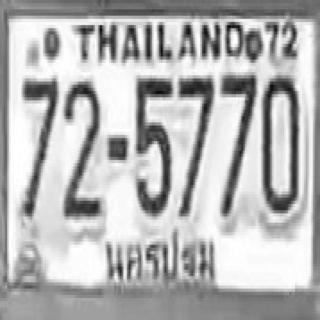N00: (260, 72, 298, 216)
N02: (62, 77, 99, 215)
N05: (134, 75, 172, 213)
N07: (218, 71, 256, 221), (18, 74, 57, 215), (177, 72, 213, 213)
P28: (101, 228, 219, 296)
